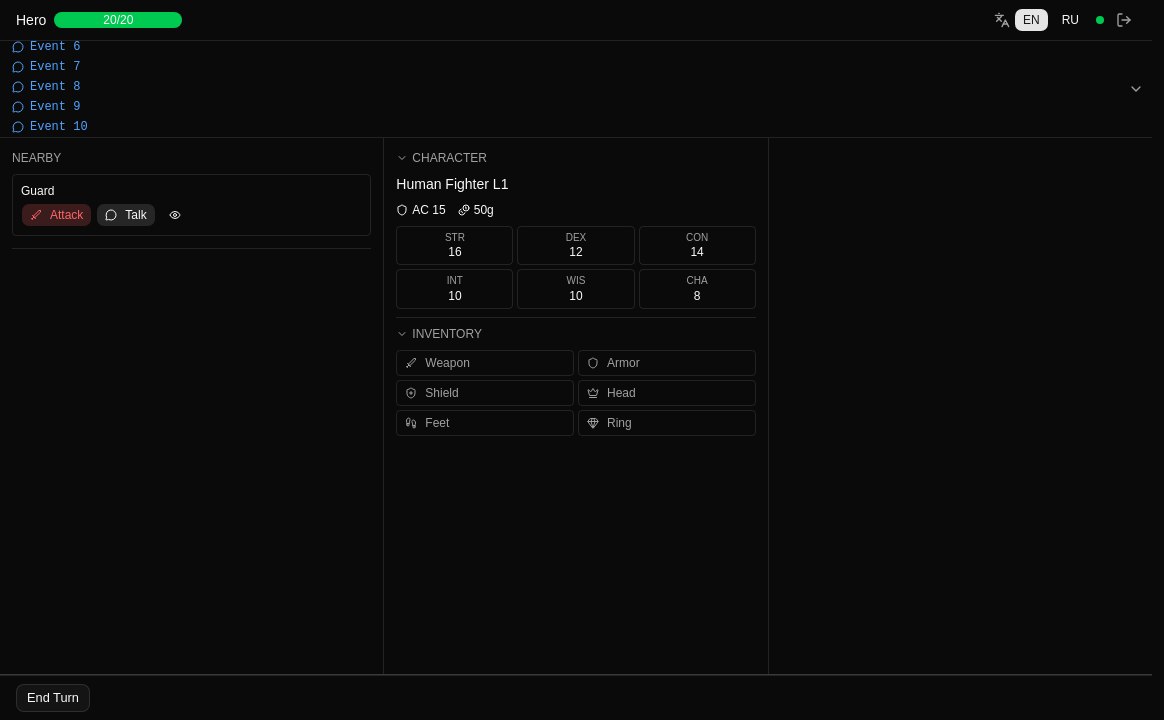
Test: GameScreen — log expand overlay › clicking expand shows overlay with full log
The width and height of the screenshot is (1164, 720).
(page scrolled)
Click the button with test id "log-expand-btn" at (1136, 89), box [1120,41,1152,137]
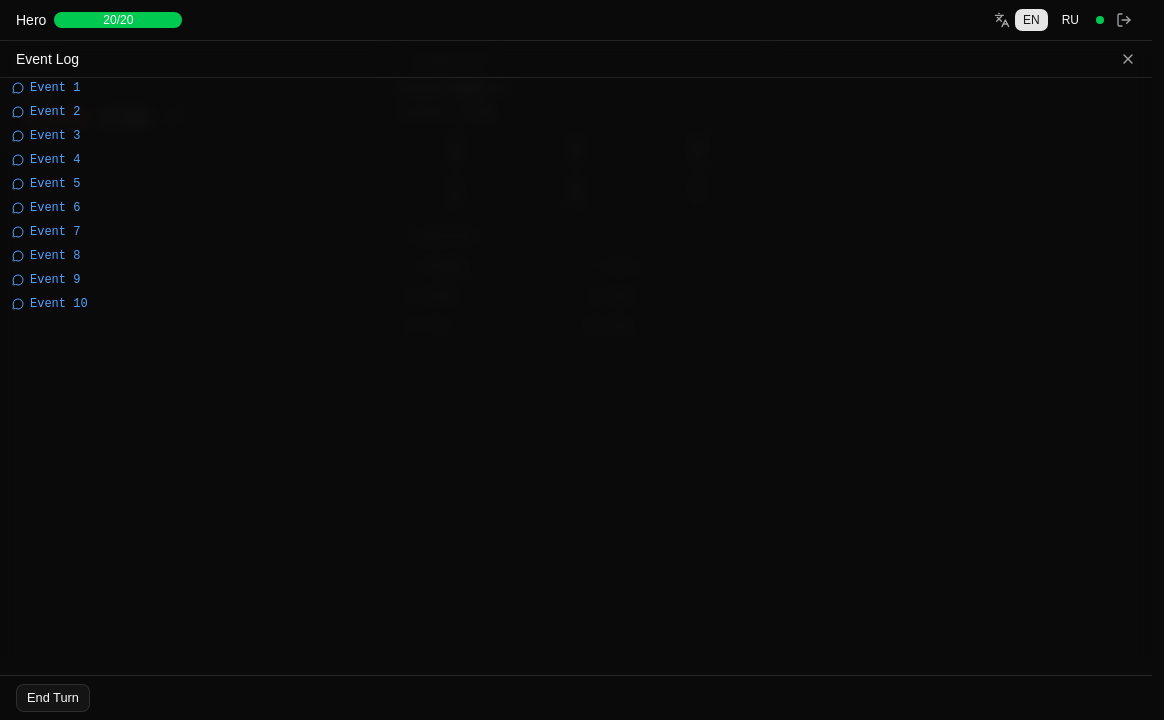
Expected: the element with test id "log-overlay" is shown
